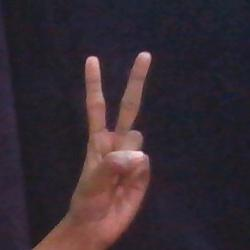V: (3, 19, 205, 250)
